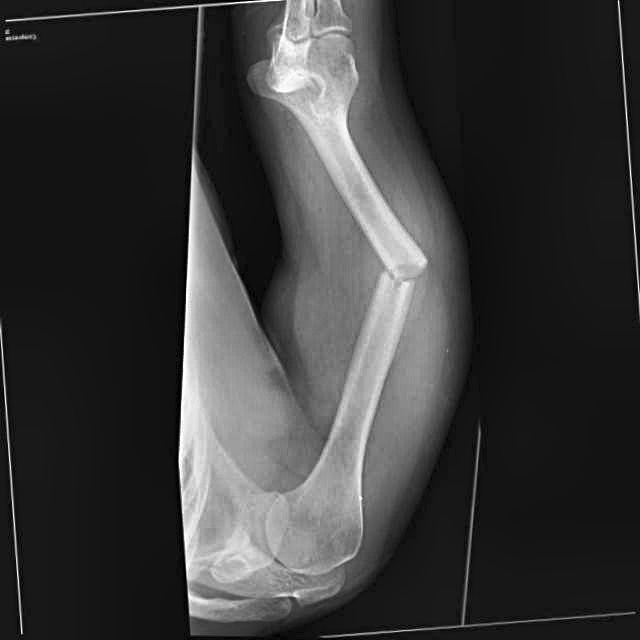Transverse: (364, 232, 443, 316)
